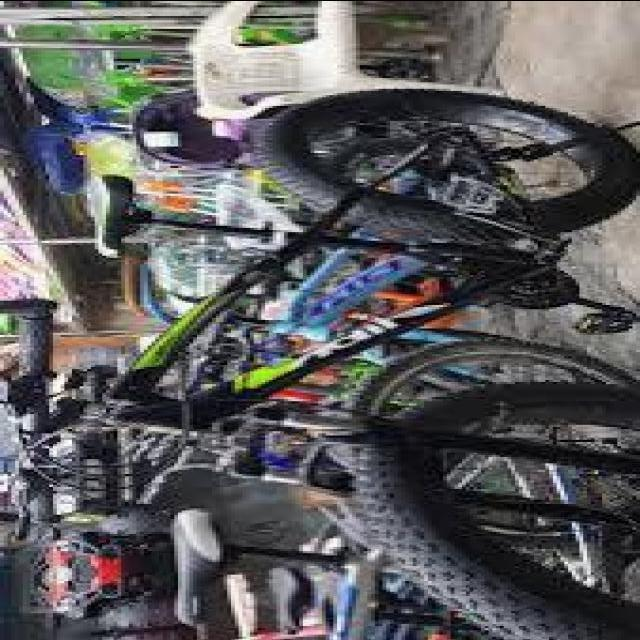bicycle: (88, 91, 640, 639)
